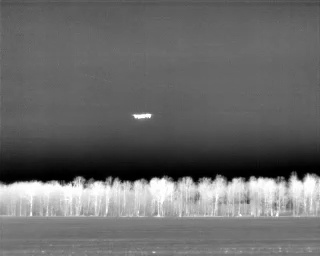DRONE: (128, 108, 156, 125)
